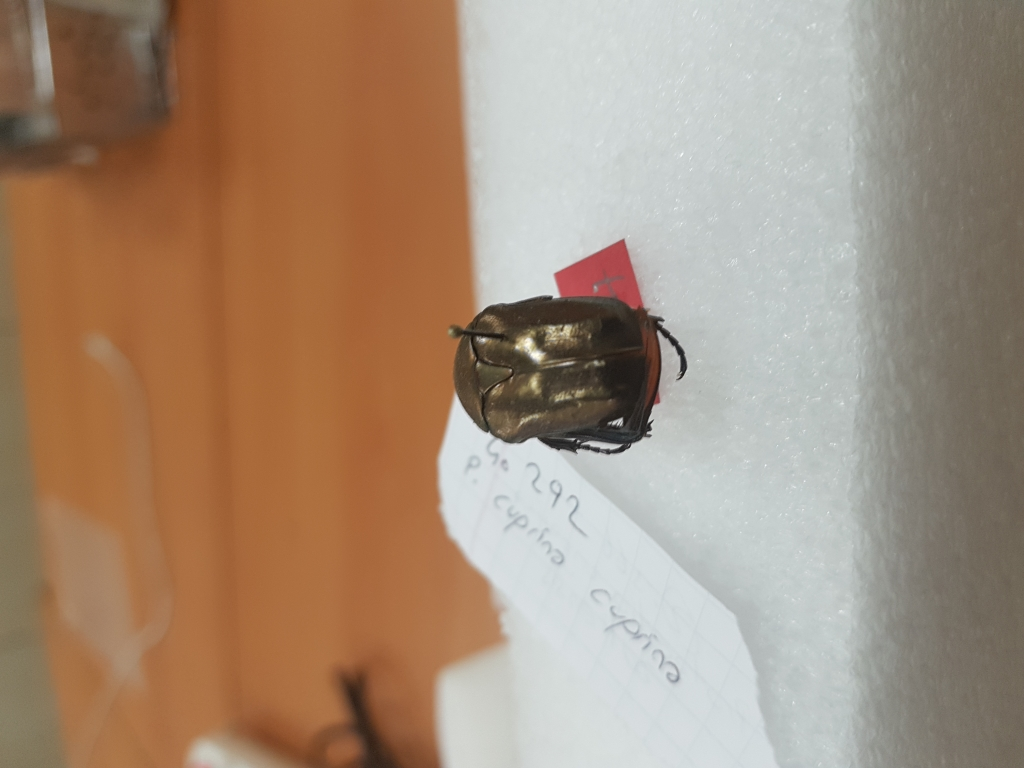Protaetia_cuprina_cuprina: (447, 285, 691, 463)
